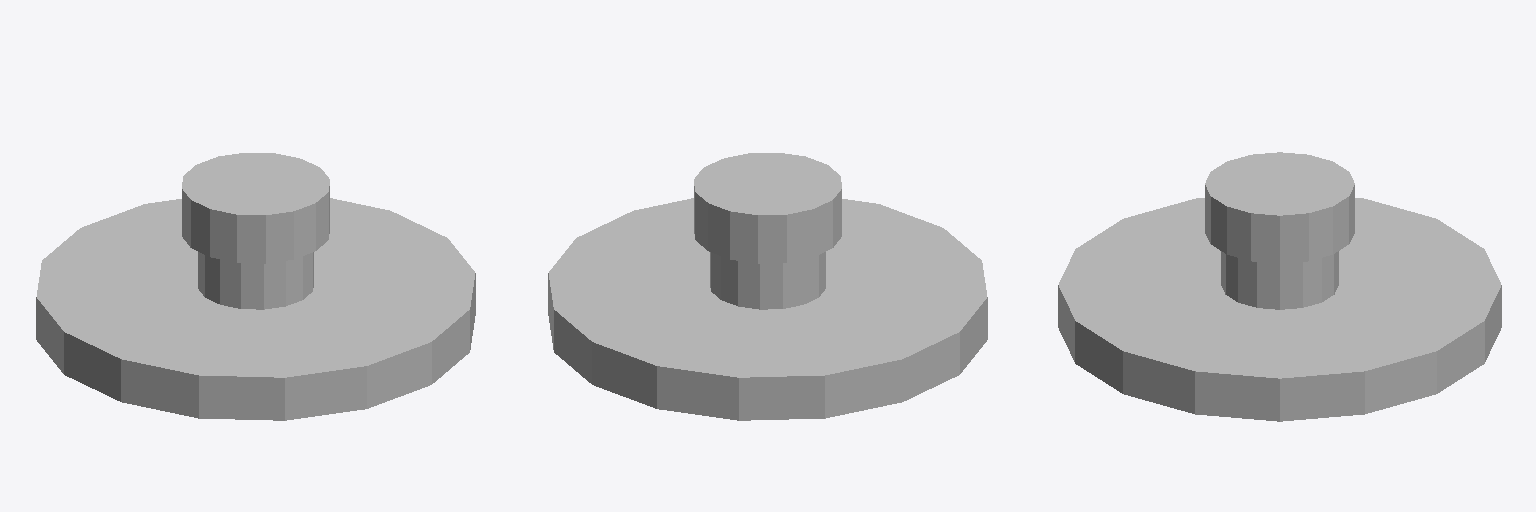
The model's file is robotBase.obj.
The picture shows the model from 3 angles: view 1: azimuth 30°, elevation 25°; view 2: azimuth 150°, elevation 25°; view 3: azimuth 270°, elevation 25°; orthographic projection.
Parts seen in each view (by area): view 1: polySurface83; view 2: polySurface83; view 3: polySurface83.
Part boxes in pixels (left/top/right/bottom): polySurface83: left=36, top=153, right=475, bottom=420; polySurface83: left=548, top=153, right=987, bottom=420; polySurface83: left=1058, top=152, right=1501, bottom=421.
Size of the model in its own units: 4.07 by 1.46 by 4.07.